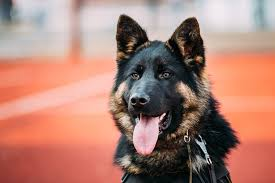dog: (109, 10, 233, 183)
